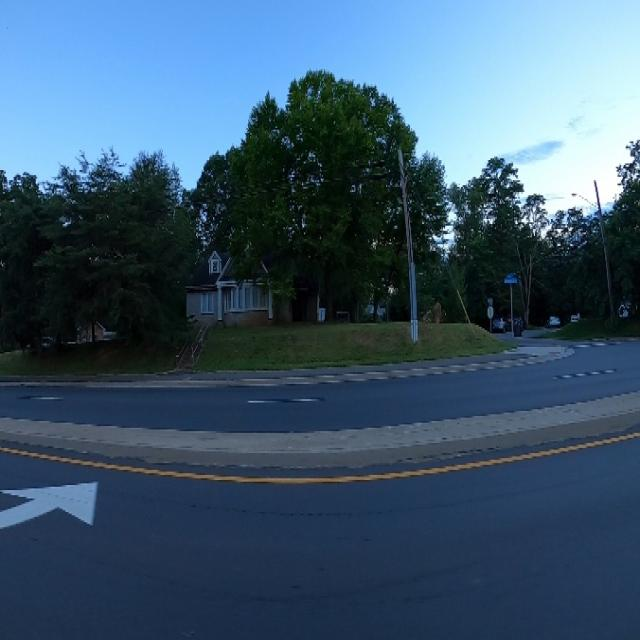cars: (488, 312, 508, 340), (546, 311, 562, 334)
